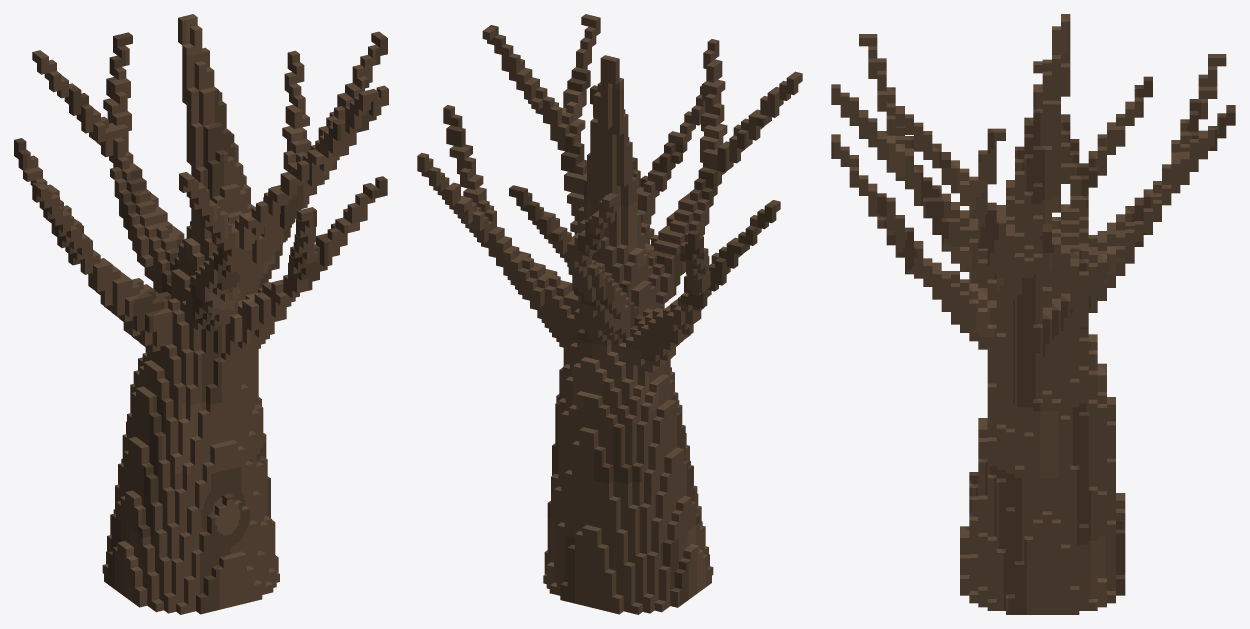
The model's file is apple_ancient_winter_3.glb.
3 views of the same model, side by side, from view 1: azimuth 30°, elevation 25°; view 2: azimuth 150°, elevation 25°; view 3: azimuth 270°, elevation 25° (orthographic). The views are drawn at different scales.
Visible parts, largest first — view 1: VoxelVisual; view 2: VoxelVisual; view 3: VoxelVisual.
Part boxes in pixels (x1,y1,x2,y2): VoxelVisual: (14, 14, 388, 614); VoxelVisual: (417, 14, 802, 614); VoxelVisual: (831, 14, 1235, 614).
Size of what is drawn, in the model's own units: 11.25 by 17 by 11.
